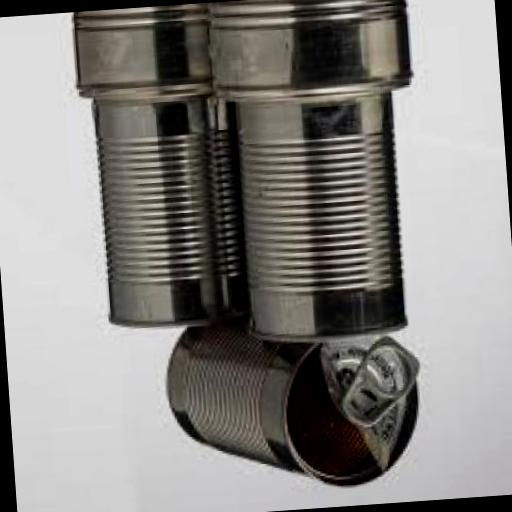metal: (162, 309, 430, 502), (235, 90, 414, 348), (92, 88, 253, 338), (208, 0, 414, 105), (72, 6, 216, 110)
